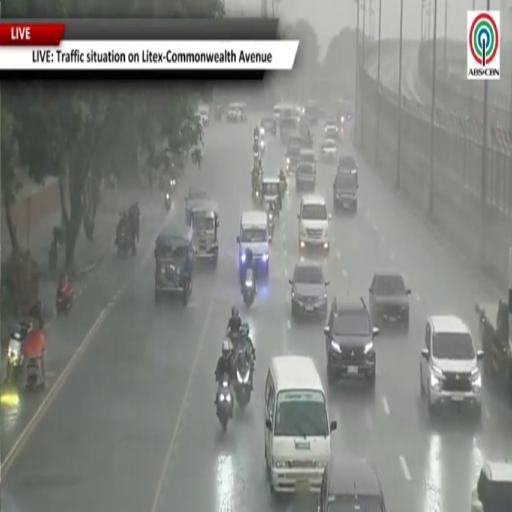car: (420, 315, 483, 417), (324, 297, 378, 387), (318, 453, 386, 511), (369, 271, 410, 329), (237, 211, 270, 281), (289, 262, 329, 318), (471, 461, 511, 511), (298, 195, 330, 251), (333, 169, 358, 214), (185, 188, 211, 225), (295, 163, 315, 194), (337, 156, 358, 180), (286, 137, 300, 172), (320, 138, 337, 162), (299, 147, 316, 171), (298, 121, 312, 149), (304, 100, 318, 125), (230, 103, 247, 121), (226, 104, 242, 122), (261, 116, 276, 134), (324, 118, 338, 137), (198, 105, 209, 126)
jeepney: (155, 226, 194, 305), (191, 201, 218, 266), (185, 188, 211, 225), (262, 178, 281, 214)
motorcycle: (6, 325, 45, 389), (5, 324, 32, 386), (235, 349, 252, 409), (216, 375, 233, 431), (116, 226, 136, 255), (242, 268, 255, 308), (56, 286, 73, 316), (267, 211, 275, 240), (279, 179, 287, 197), (252, 187, 260, 204), (165, 192, 171, 212), (259, 138, 265, 156), (215, 106, 221, 122), (254, 151, 260, 164)
truck: (476, 248, 511, 394)
